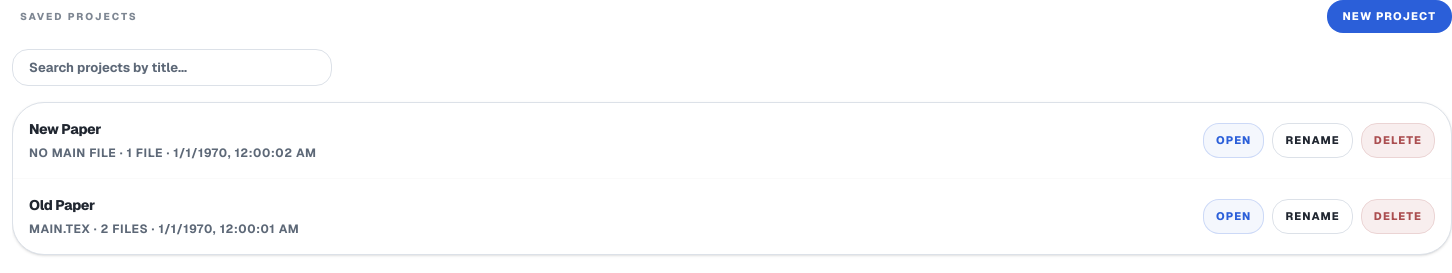
LocalProjectList › deletes with the expected revision after confirmation
What coordinates should you click on to do the following:
click the button with aria-label "Delete Old Paper"
I would click on:
 (1398, 217)
Its box is [1361,199,1435,234].
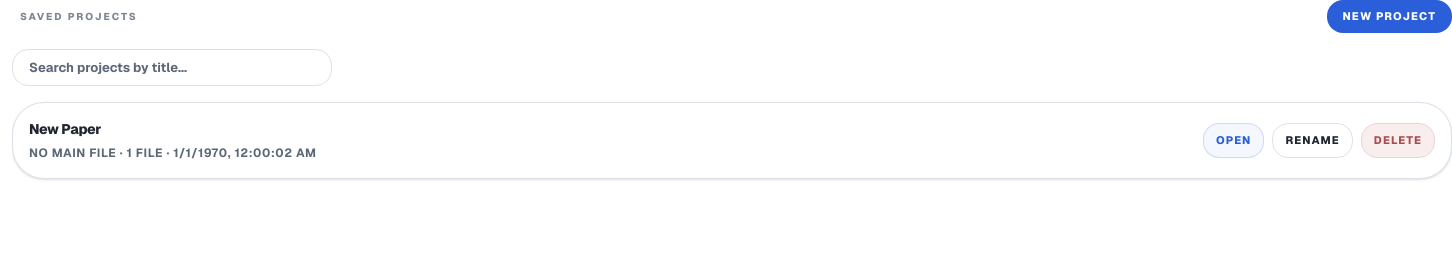
Expected: the text "New Paper" is shown, [29,120,101,138]
Now the text "Old Paper" is gone
